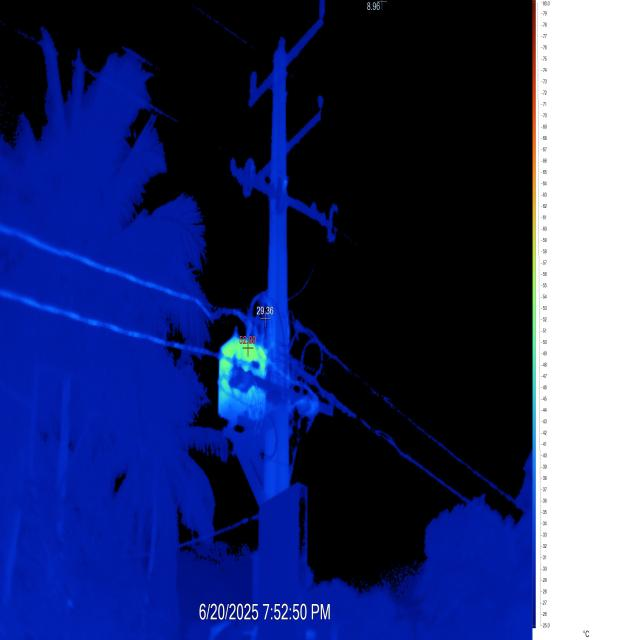Transformer: (0, 0, 537, 608)
